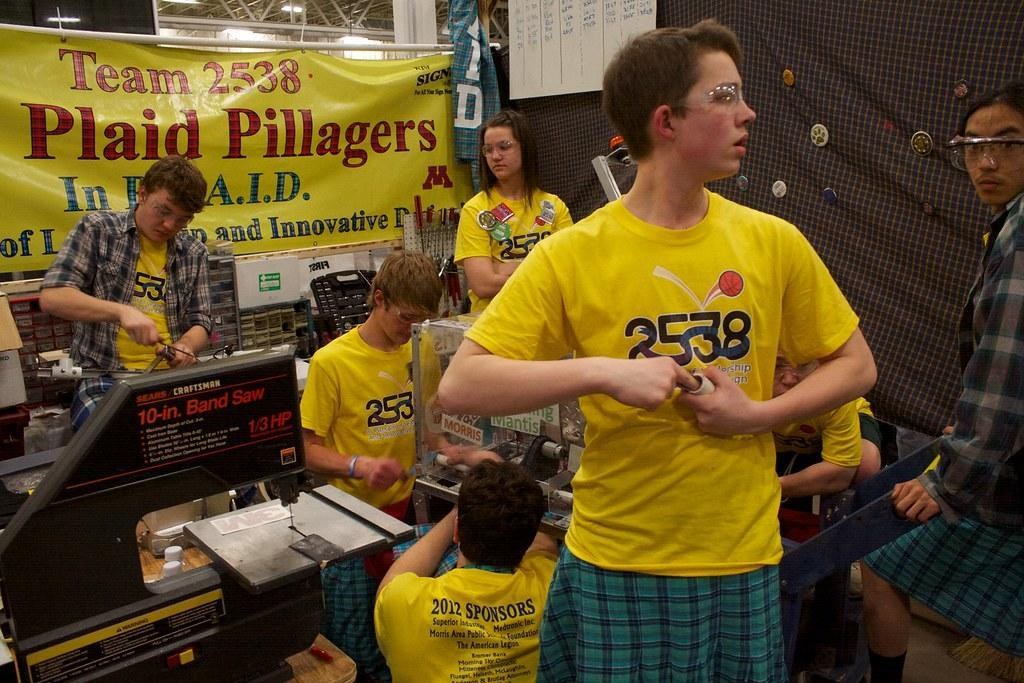robot: (395, 285, 620, 570)
